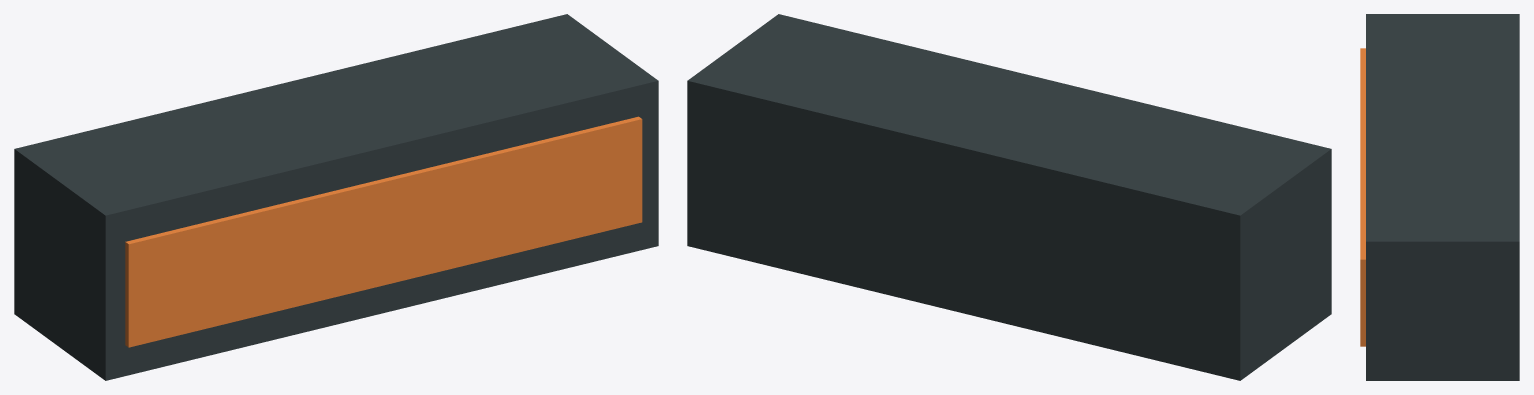
Rendered from SM_MP_Solar_RollBox.fbx.
3 renders of one model, left to right at view 1: azimuth 30°, elevation 25°; view 2: azimuth 150°, elevation 25°; view 3: azimuth 270°, elevation 25°, orthographic. The views are drawn at different scales.
Visible parts, largest first — view 1: SM_MP_Solar_RollBox; view 2: SM_MP_Solar_RollBox; view 3: SM_MP_Solar_RollBox.
Part boxes in pixels (<box>): SM_MP_Solar_RollBox: <box>14,14,658,380</box>; SM_MP_Solar_RollBox: <box>687,14,1331,380</box>; SM_MP_Solar_RollBox: <box>1360,14,1519,380</box>.
Size of what is drawn, in the model's own units: 280 by 83 by 80.
